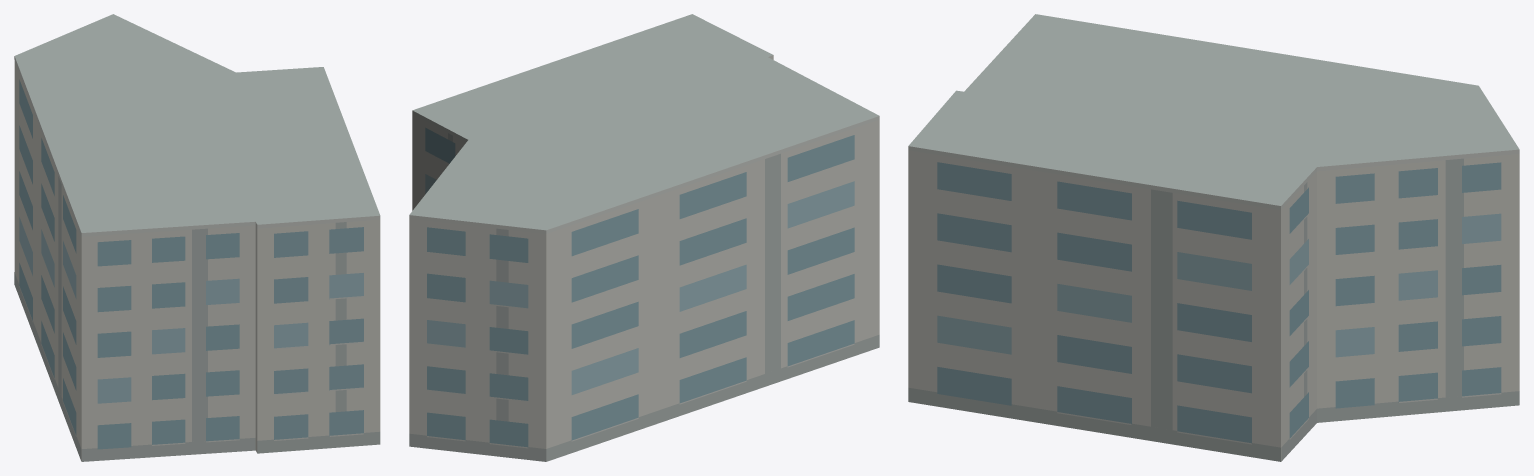
Rendered from survey-upis-32495941.glb.
The picture shows the model from 3 angles, left to right: view 1: azimuth 30°, elevation 25°; view 2: azimuth 150°, elevation 25°; view 3: azimuth 270°, elevation 25°; orthographic projection. The views are drawn at different scales.
Parts seen in each view (by area): view 1: survey-upis-32495941.tmp; view 2: survey-upis-32495941.tmp; view 3: survey-upis-32495941.tmp.
Boxes of the visible parts, x1,y1,x2,y2 form: survey-upis-32495941.tmp: (14,14,380,461); survey-upis-32495941.tmp: (409,14,879,461); survey-upis-32495941.tmp: (908,14,1519,461).
Size of the model in its own units: 23.74 by 14.74 by 31.94.
